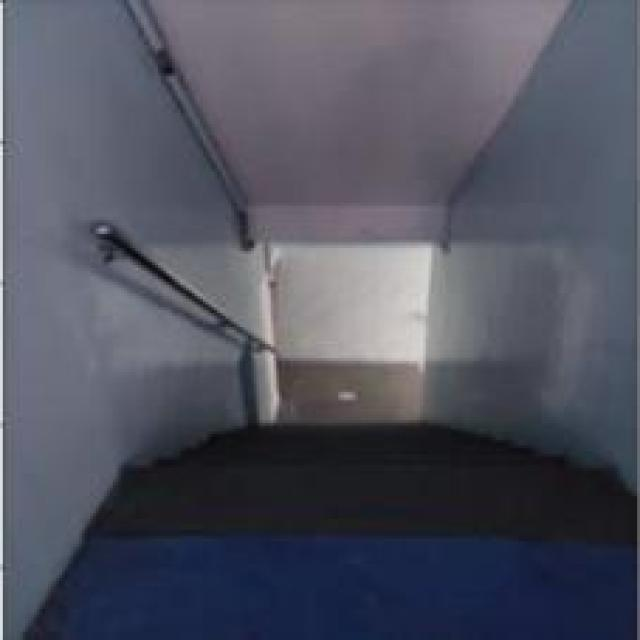downstair: (215, 393, 483, 522)
